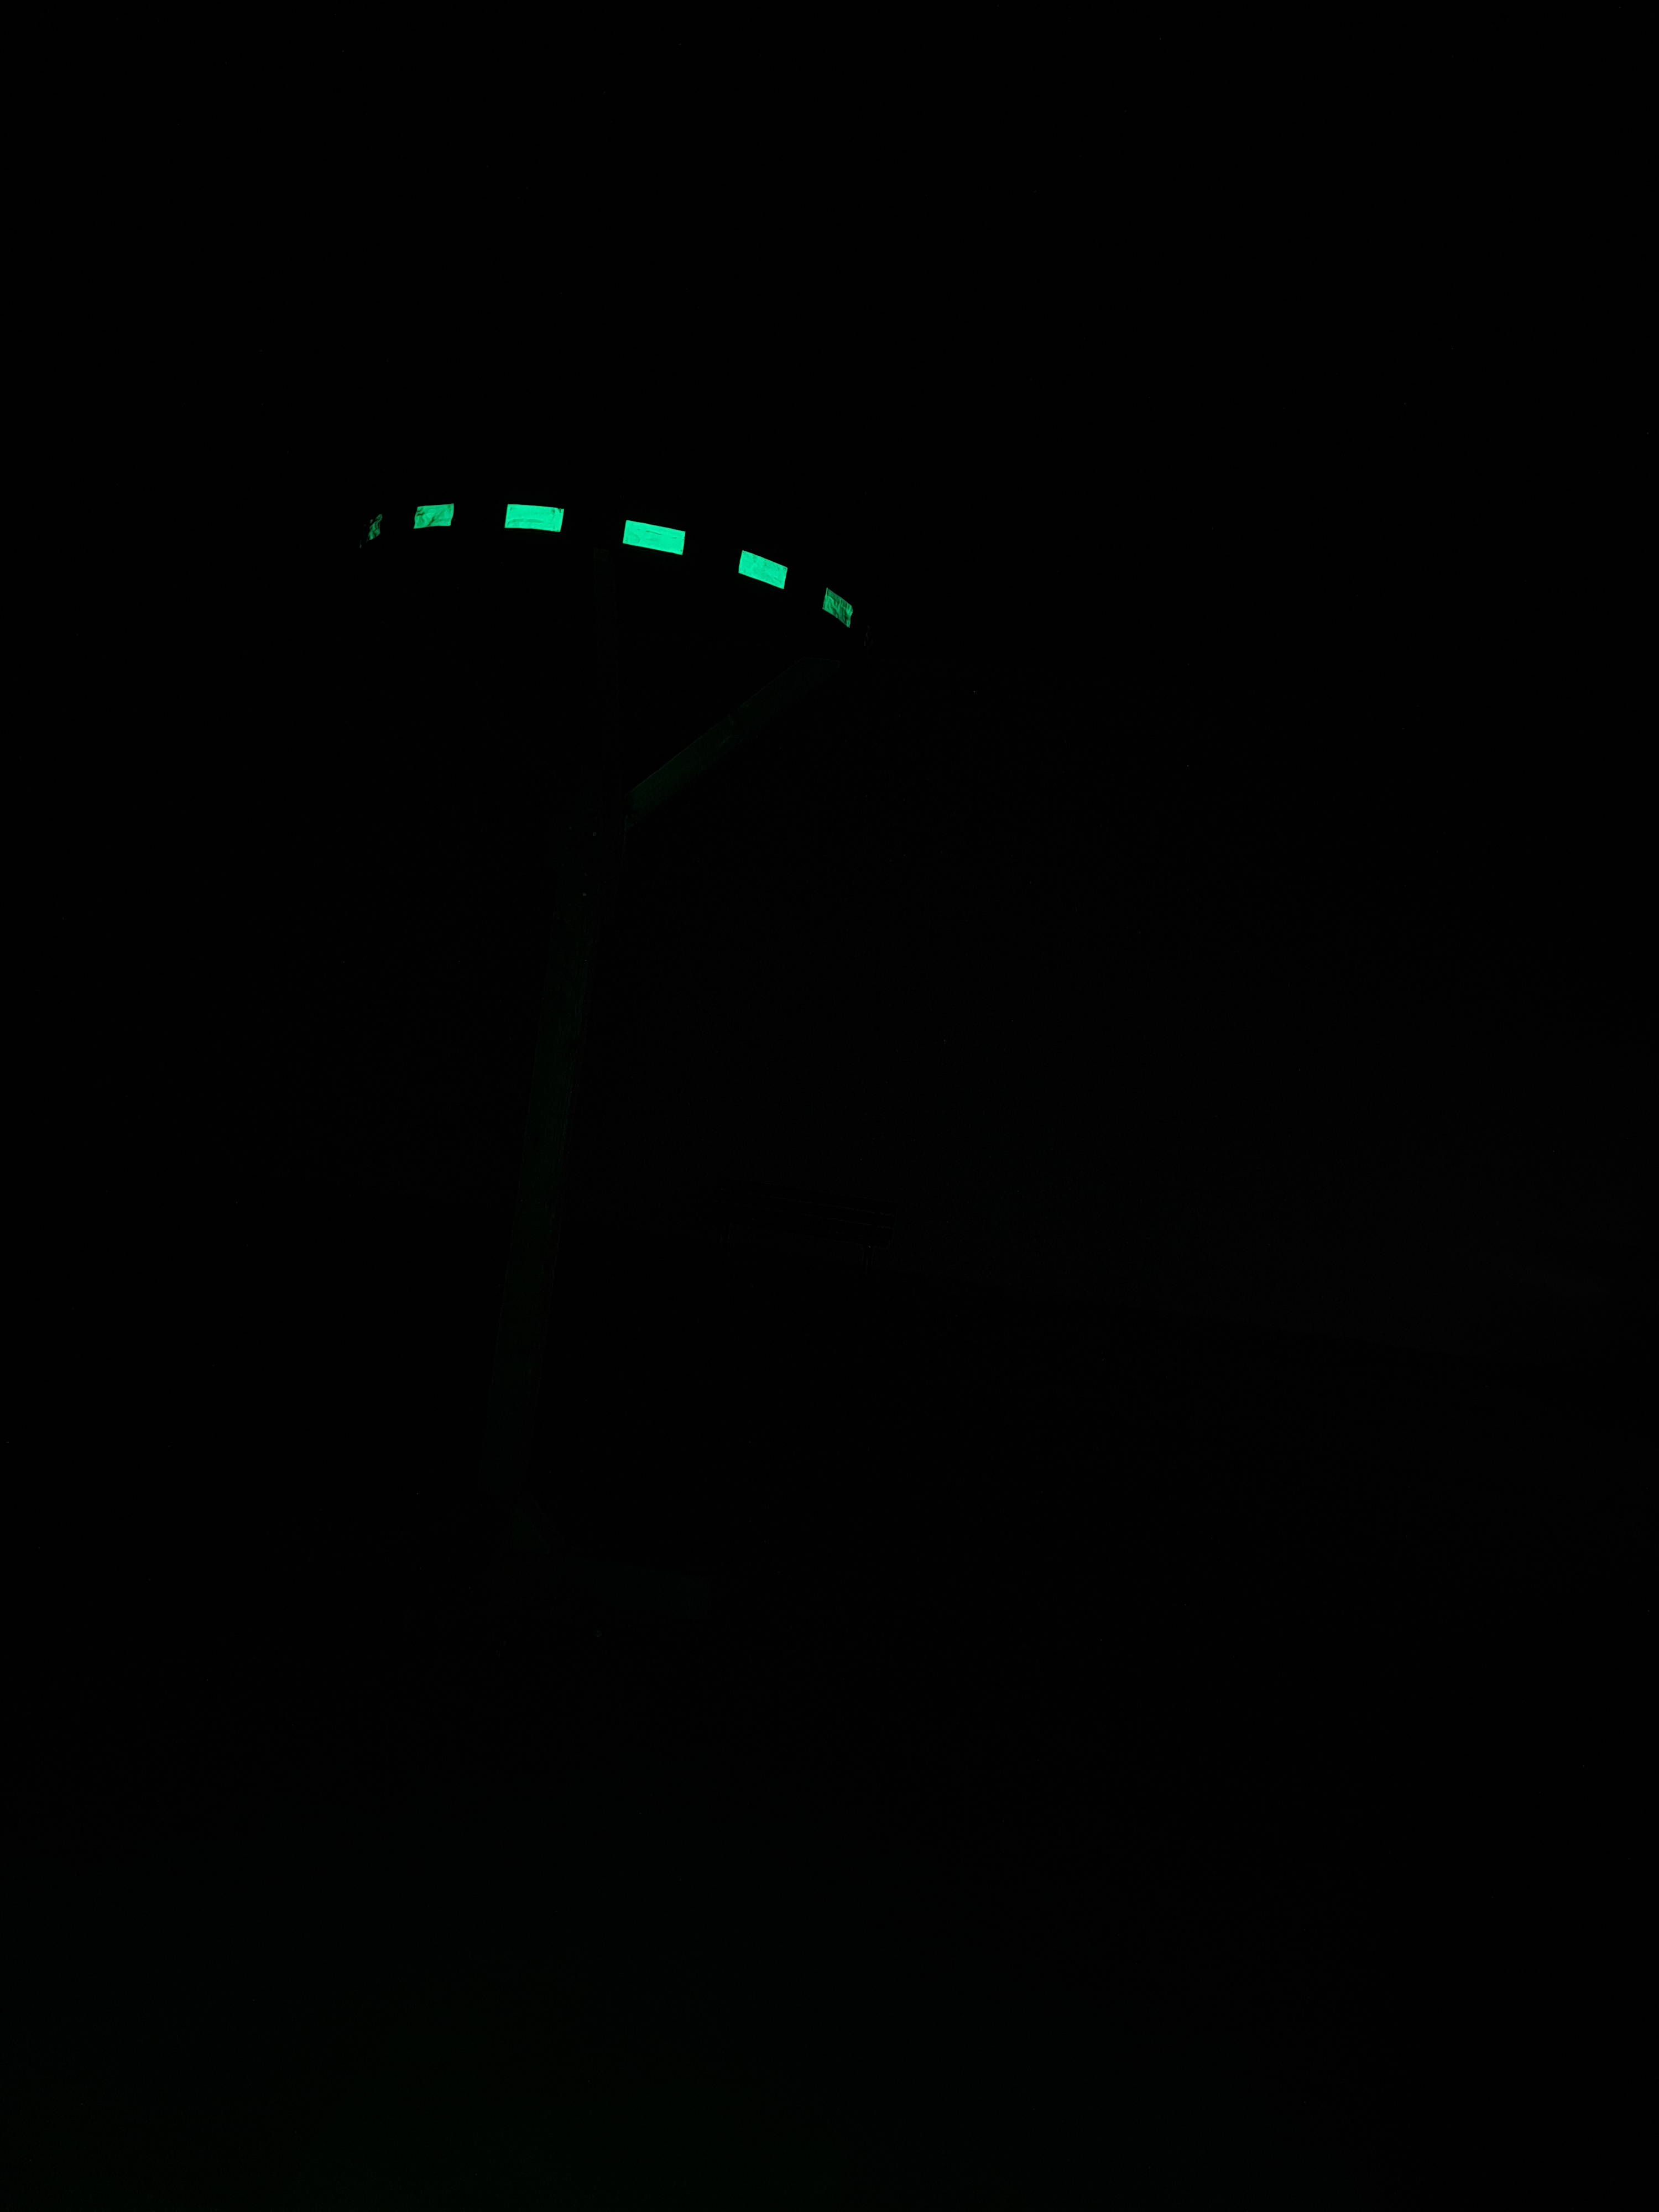hoop: (354, 491, 859, 648)
